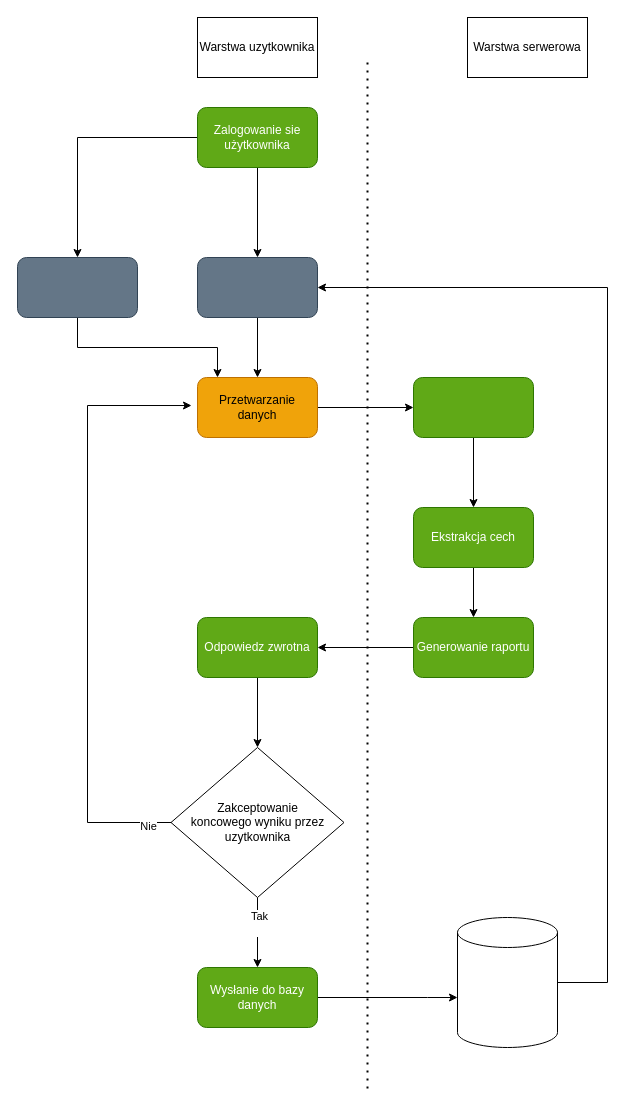
Image size: 633x1108. Some labels were removed from this diagram. Each missing label, with the centre of its shape:
Baza danych: the point at 507,982
Edycja danych: the point at 257,287
Wysłanie danych: the point at 77,287
Wysłanie danych na server: the point at 473,407
